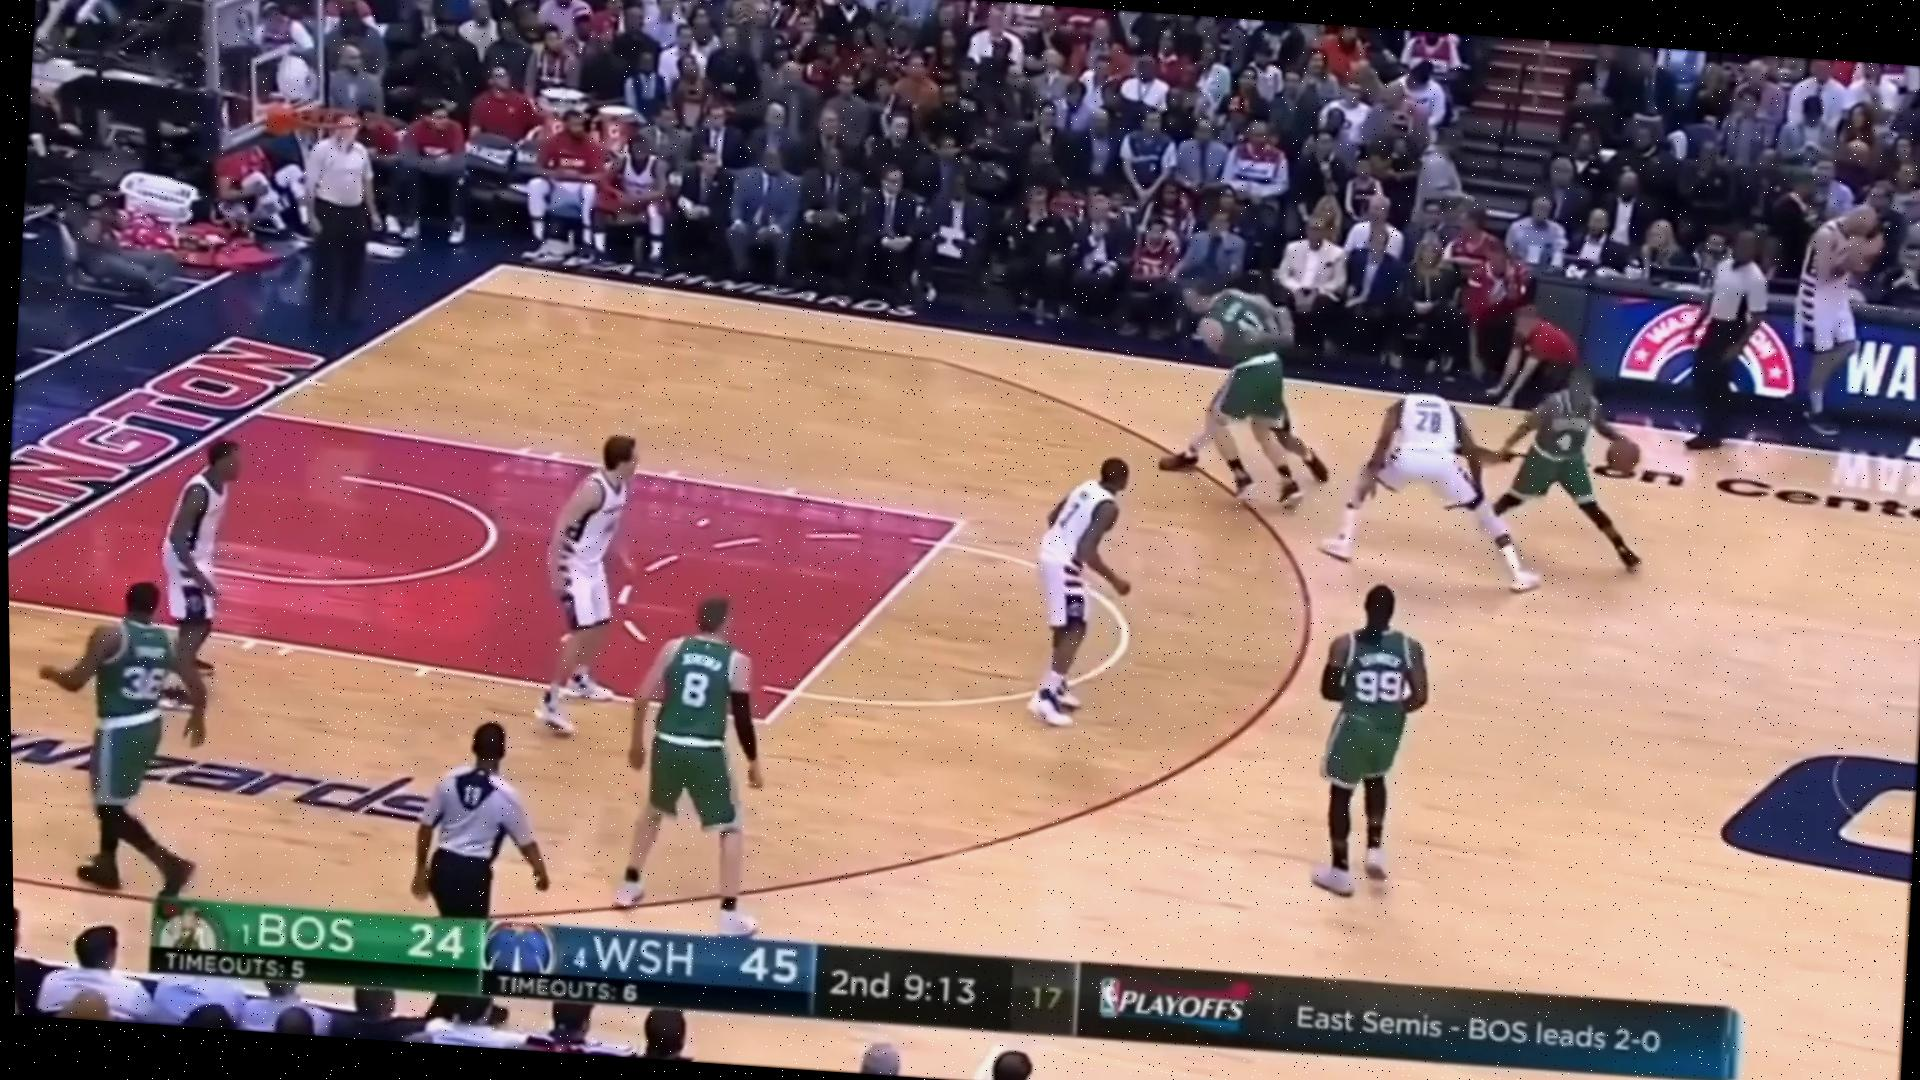foul: (1121, 235, 1349, 513)
